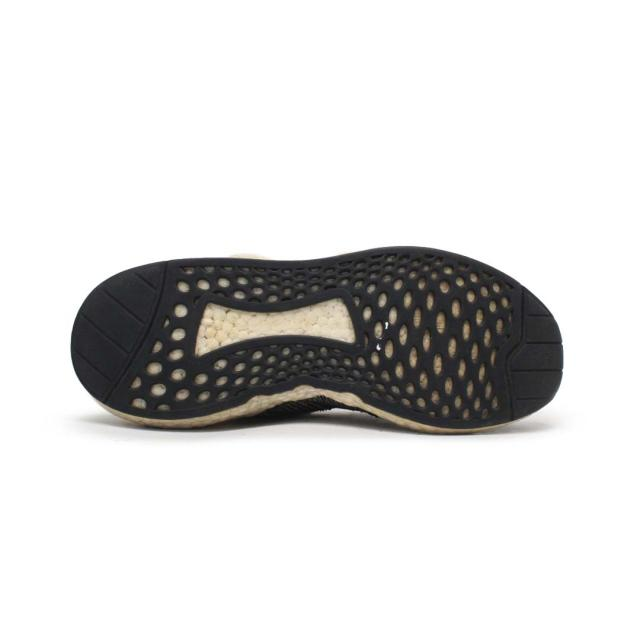outersole: (69, 246, 562, 429)
